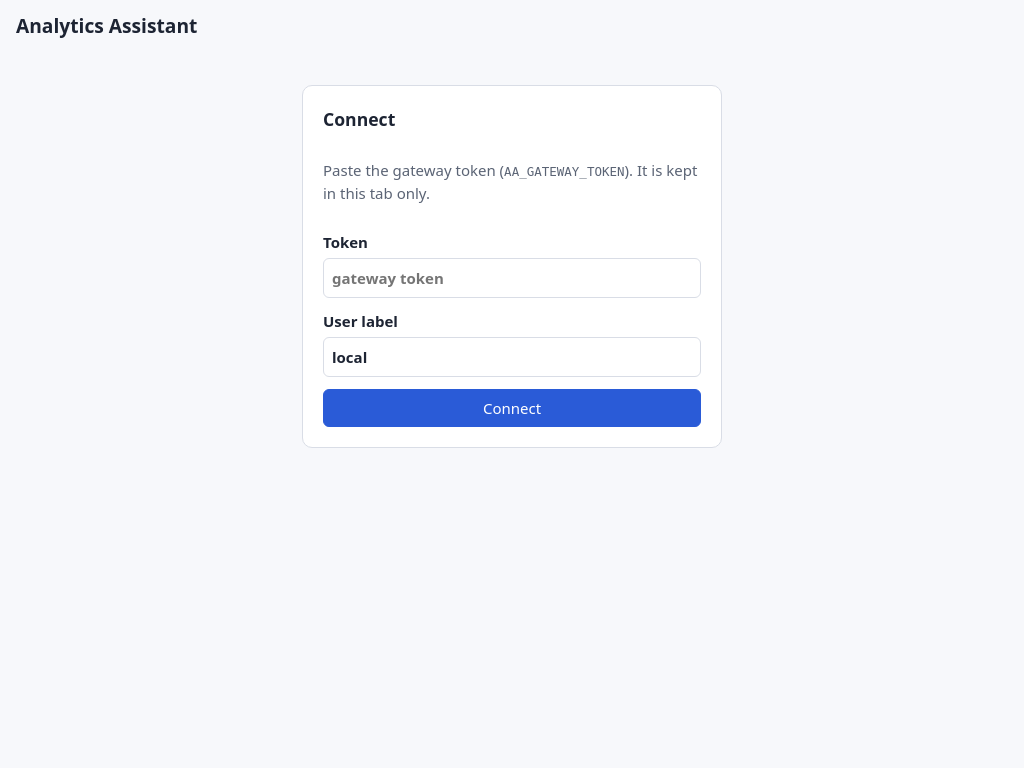
Test: App › asks for a token first and keeps it out of localStorage
Expected: the form "Connect" is shown, [302,85,722,448]
Type "tok-1234" into the password field labelled "Token" at (512, 278), box [323,258,701,298]
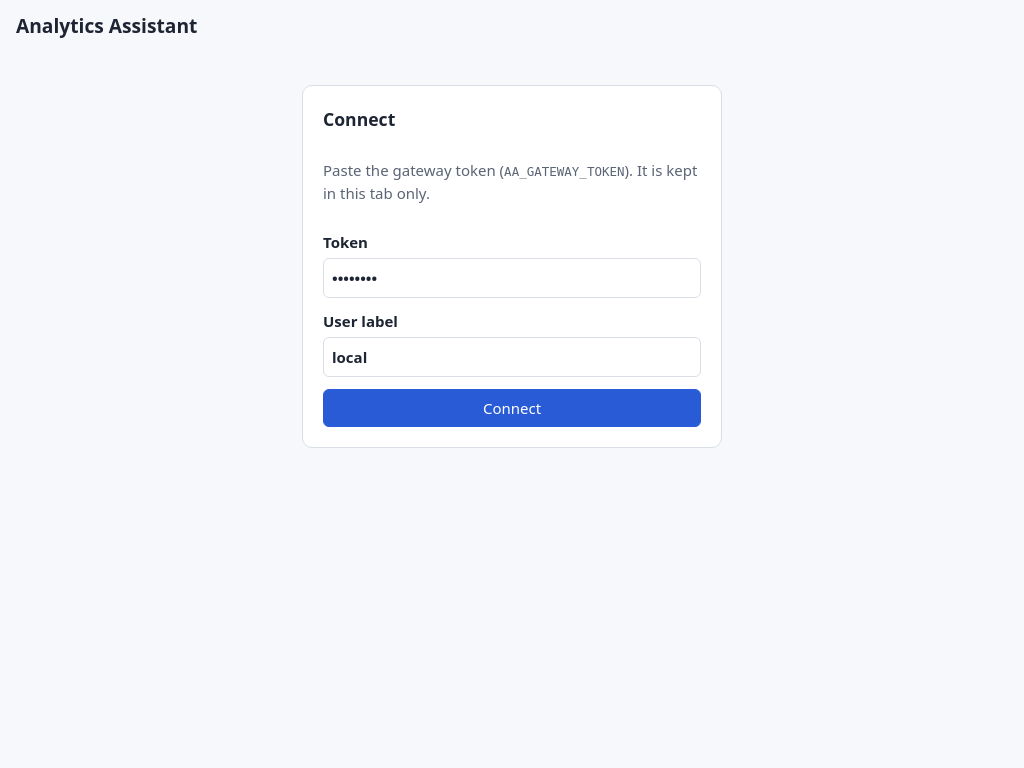
Click the button "Connect" at (512, 408), box [323,389,701,427]
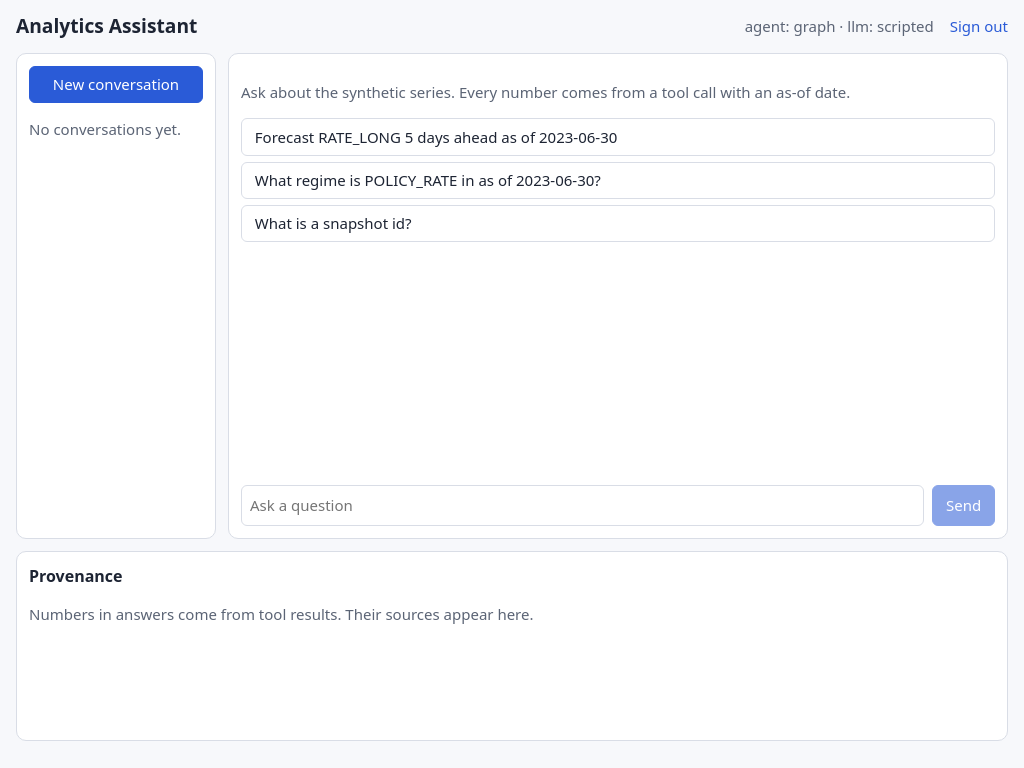
Now the text "No conversations yet." is shown, box [29,118,203,141]
Now the text with test id "server-config" shows "agent: graph", box [745,15,934,38]
